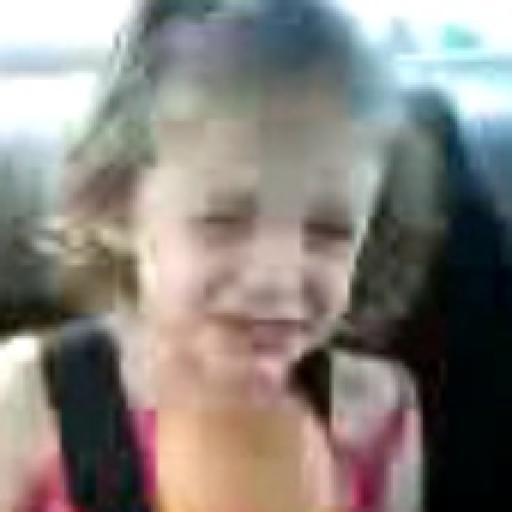Autism: (87, 19, 505, 443)
